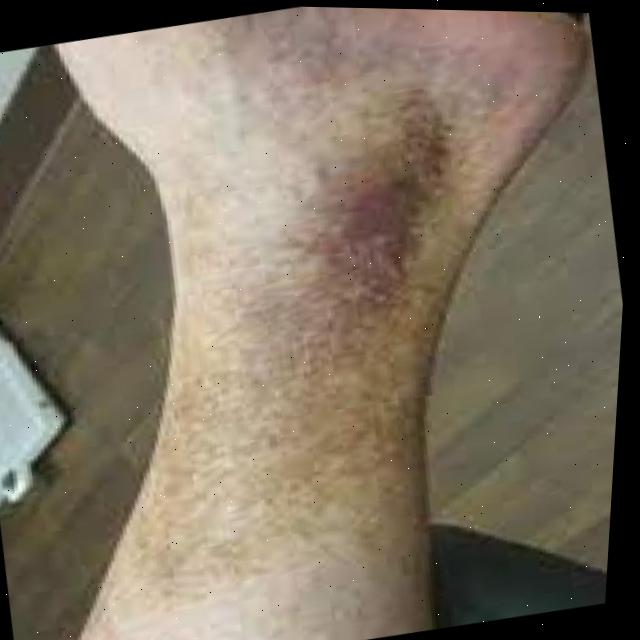Eczema: (20, 1, 551, 640)
